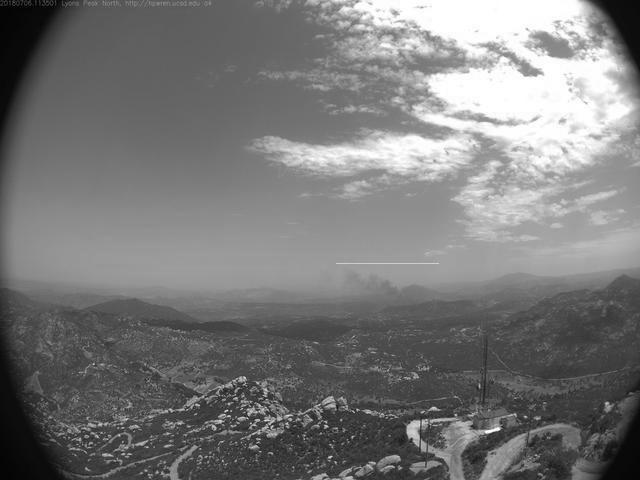smoke: (337, 264, 441, 317)
